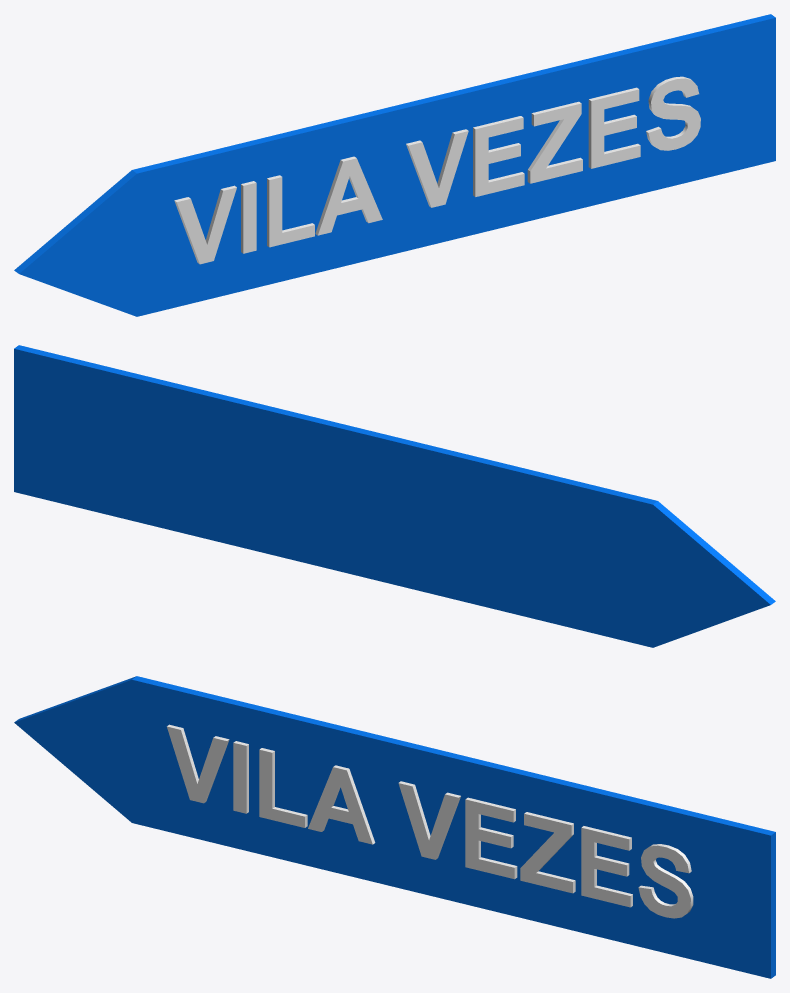
Rendered from placa Vila Vezes.fbx.
3 views of the same model, one above another, from view 1: azimuth 30°, elevation 25°; view 2: azimuth 150°, elevation 25°; view 3: azimuth 330°, elevation 25° (orthographic).
Parts seen in each view (by area): view 1: vila vezes; view 2: vila vezes; view 3: vila vezes.
Boxes of the visible parts, box(x1,y1,x2,y2) form: vila vezes: box(14, 14, 775, 316); vila vezes: box(14, 345, 775, 647); vila vezes: box(14, 676, 775, 978).
Size of the model in its own units: 1750 by 317 by 30.
